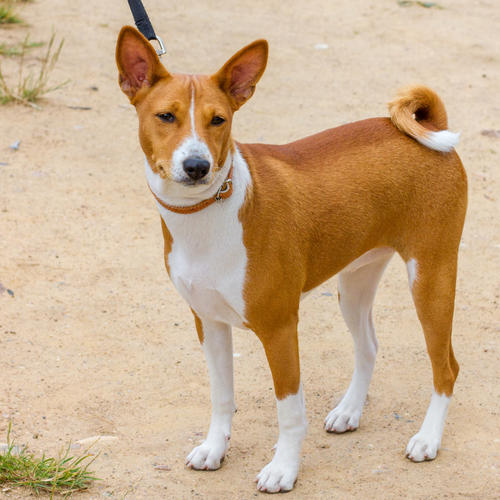dog: (86, 16, 277, 211)
